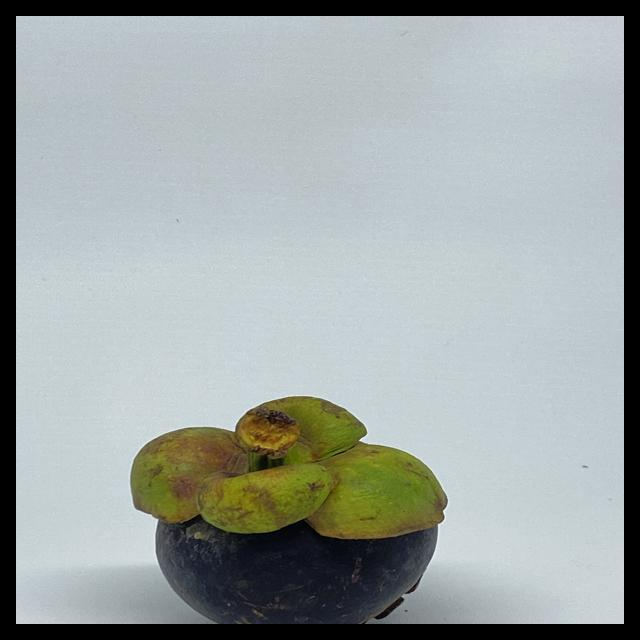mangosteen: (123, 370, 456, 624)
